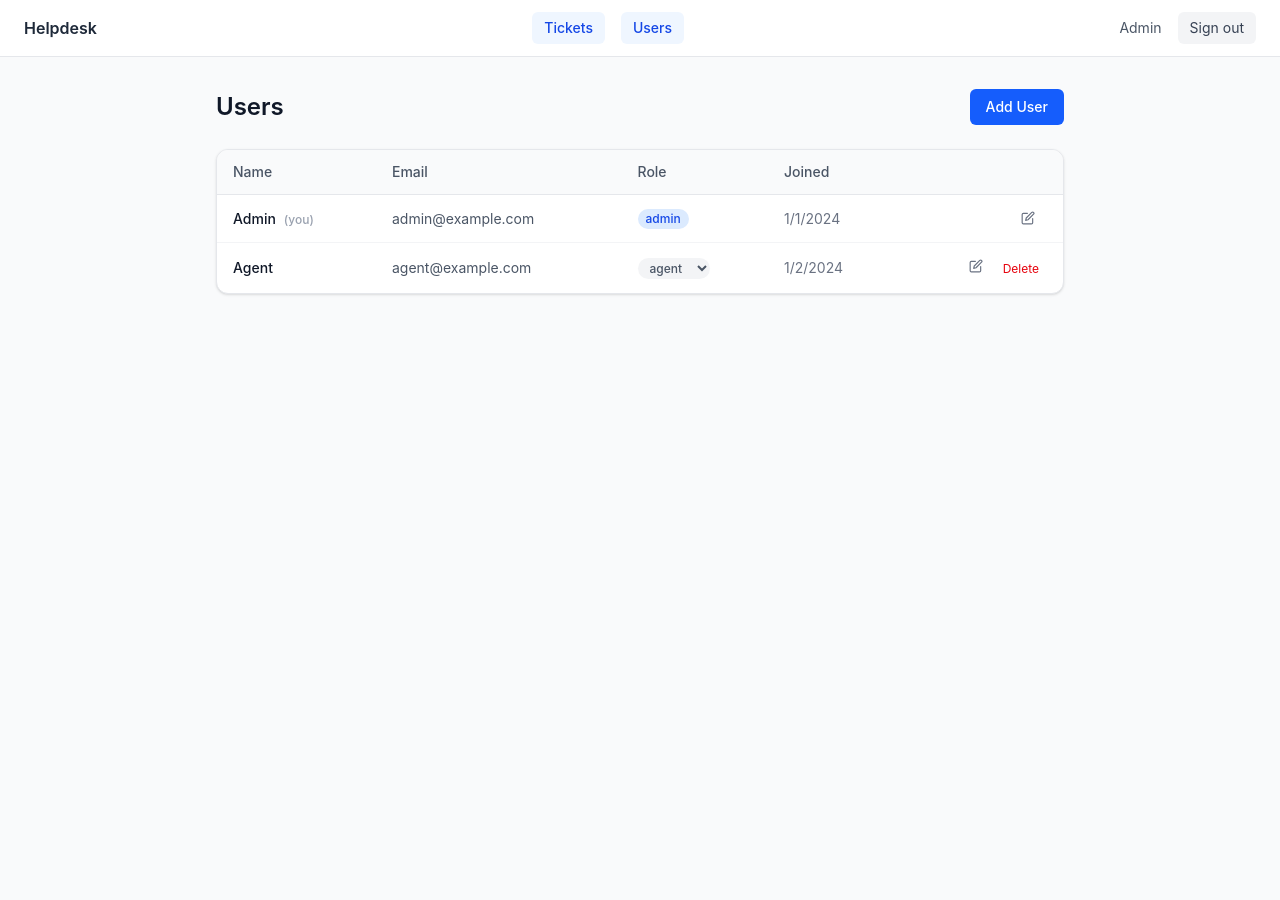
Test: Add User form › hides when clicking the backdrop outside the modal
Expected: the text "admin@example.com" is shown, [376,194,622,242]
What coordinates should you click on to do the following:
click the button "Add User"
I would click on:
 (1017, 107)
Its box is [970,89,1064,125].
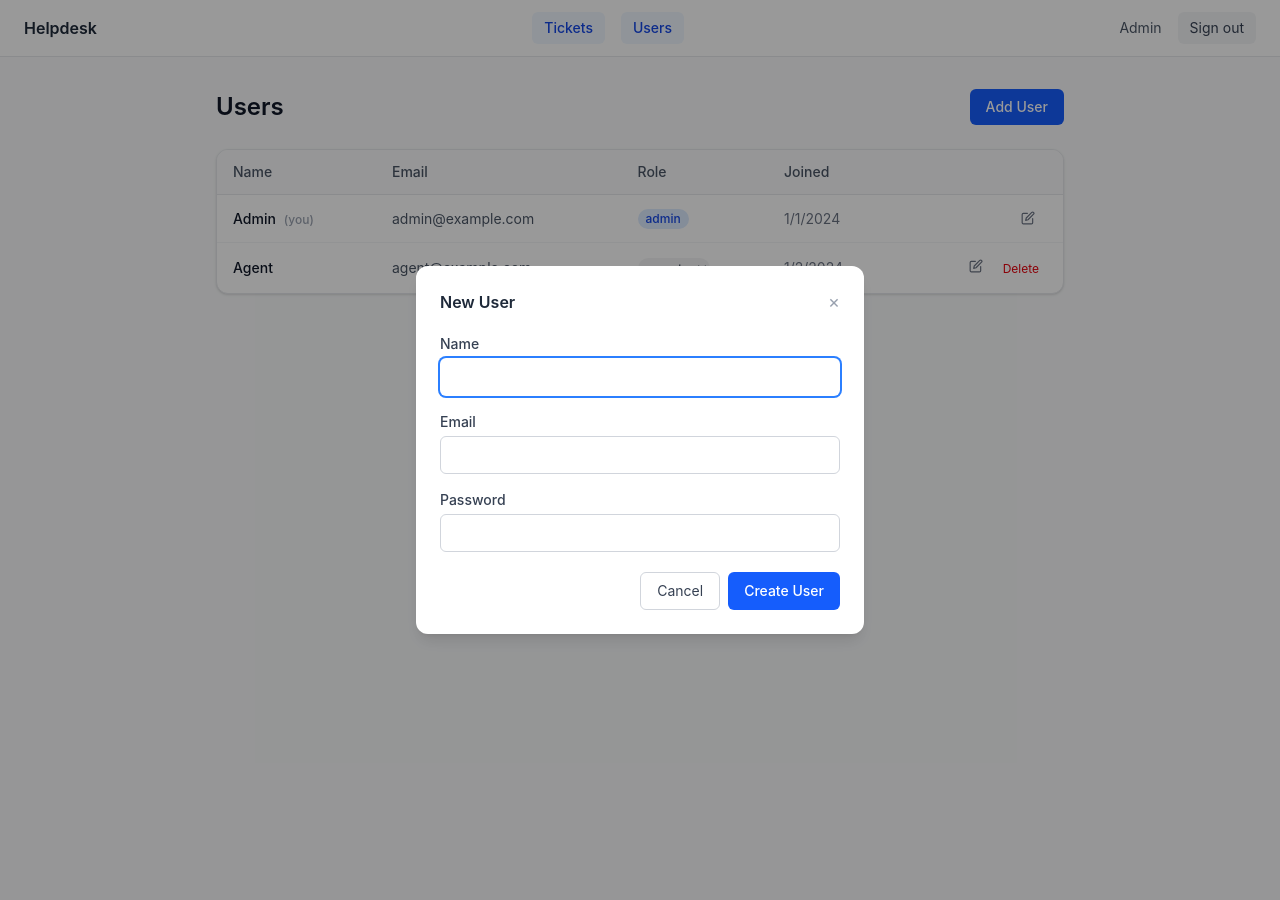
What coordinates should you click on to do the following:
click the element with test id "modal-backdrop"
I would click on:
 (77, 450)
Its box is [0,0,1279,899].
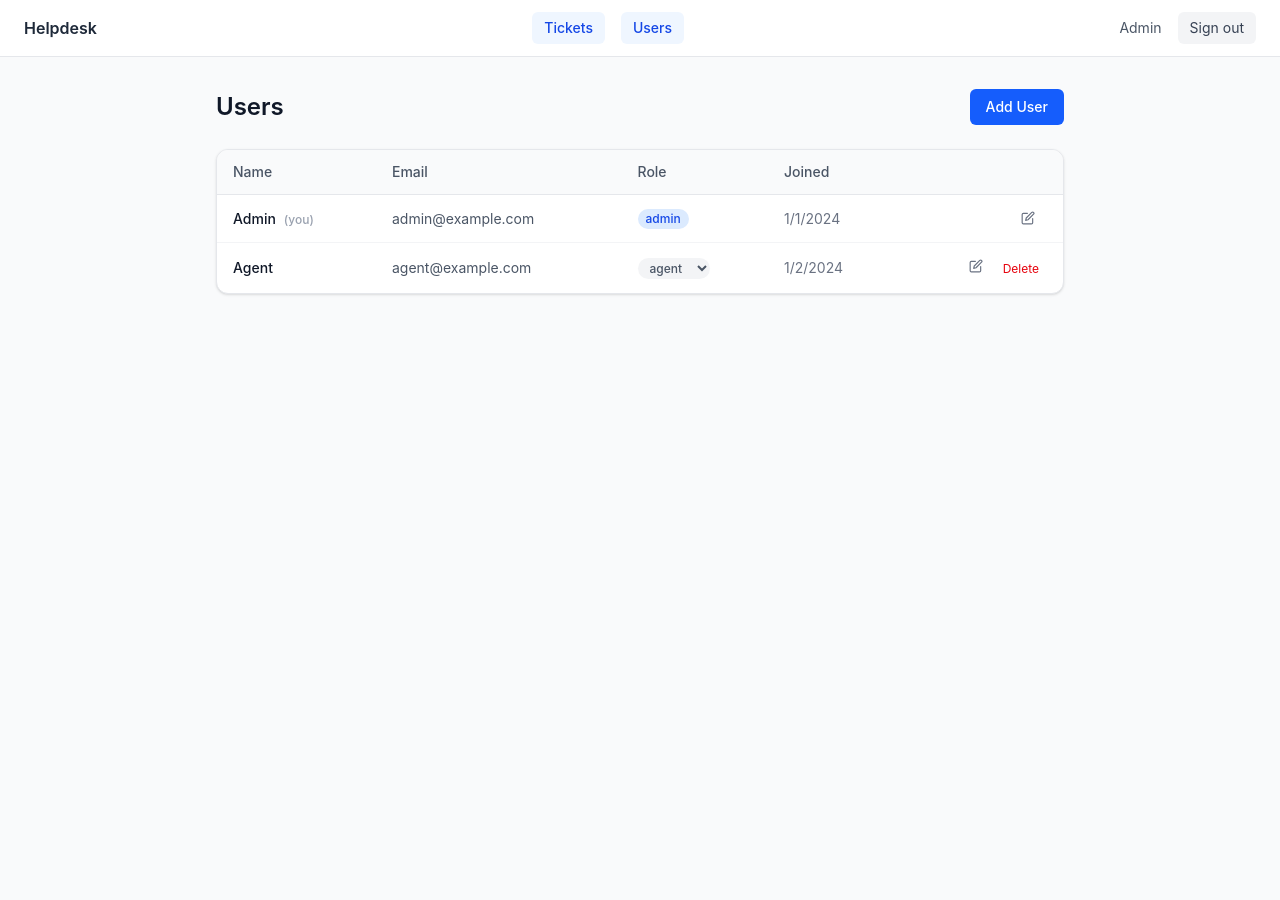
Expected: the heading "New User" is gone
